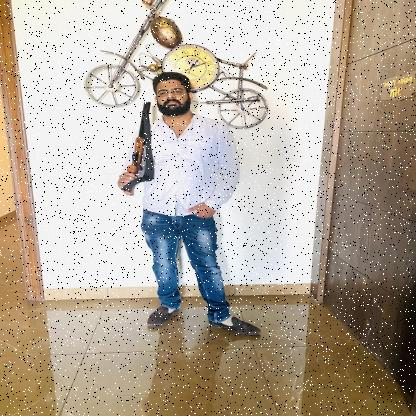rifle: (122, 101, 154, 197)
